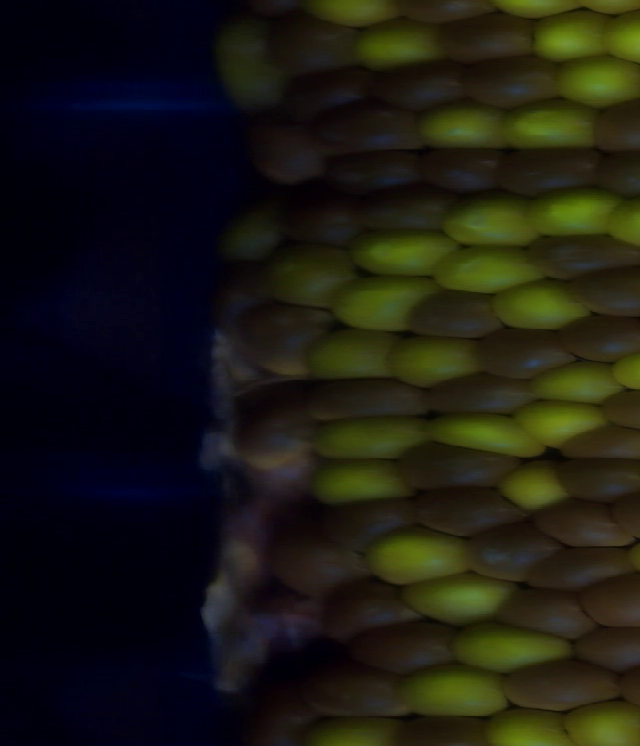fluorescent: (444, 182, 545, 251), (431, 402, 547, 462), (365, 522, 471, 587), (398, 567, 520, 623), (444, 618, 571, 671), (213, 25, 283, 111), (335, 272, 433, 333), (400, 666, 510, 719), (312, 414, 435, 460), (270, 239, 350, 308), (489, 272, 587, 328), (382, 334, 481, 387), (436, 241, 540, 290), (507, 99, 607, 149), (356, 225, 452, 276), (554, 53, 640, 109), (304, 457, 410, 502), (531, 356, 619, 409), (531, 186, 618, 238), (354, 17, 439, 70), (528, 8, 613, 60), (419, 104, 510, 150), (499, 455, 575, 509), (524, 398, 608, 445), (560, 698, 640, 746), (312, 328, 387, 378), (218, 206, 287, 259), (483, 707, 565, 746), (309, 719, 400, 746), (608, 191, 640, 250), (607, 6, 640, 61)
nonfluorescent: (217, 501, 286, 614), (231, 381, 314, 467), (234, 303, 329, 378), (502, 656, 621, 711), (302, 659, 409, 719), (494, 580, 592, 643), (396, 441, 526, 488), (468, 324, 579, 378), (409, 487, 526, 538), (261, 16, 361, 74), (310, 378, 435, 424), (435, 9, 535, 66), (244, 659, 312, 742), (530, 497, 636, 549), (494, 144, 602, 195), (425, 371, 538, 418), (360, 619, 458, 672), (525, 230, 640, 275), (252, 107, 321, 181), (320, 495, 418, 546), (462, 55, 558, 107), (405, 287, 500, 338), (472, 519, 547, 583), (325, 146, 418, 197), (325, 97, 409, 153), (413, 144, 503, 196), (324, 580, 398, 640), (277, 537, 351, 595), (366, 187, 451, 235), (560, 311, 640, 362), (206, 268, 275, 327), (377, 62, 467, 107), (542, 540, 635, 583), (288, 199, 367, 249), (547, 456, 640, 498), (582, 566, 640, 633), (562, 265, 640, 314), (572, 623, 640, 674), (561, 424, 640, 464), (211, 620, 253, 690), (591, 97, 640, 146), (596, 144, 640, 198), (396, 720, 487, 746), (600, 386, 640, 433)
